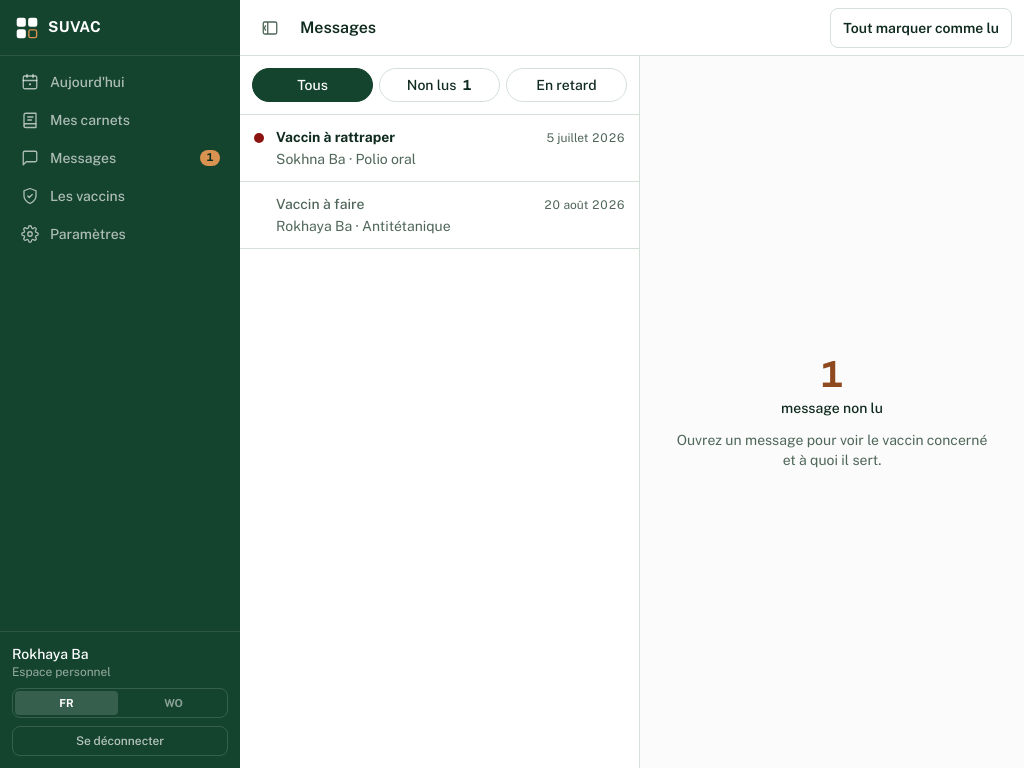
Test: Messages › affiche le texte tel qu'il a été envoyé
Click the text "Vaccin à faire" at (320, 204), box [276,194,364,214]
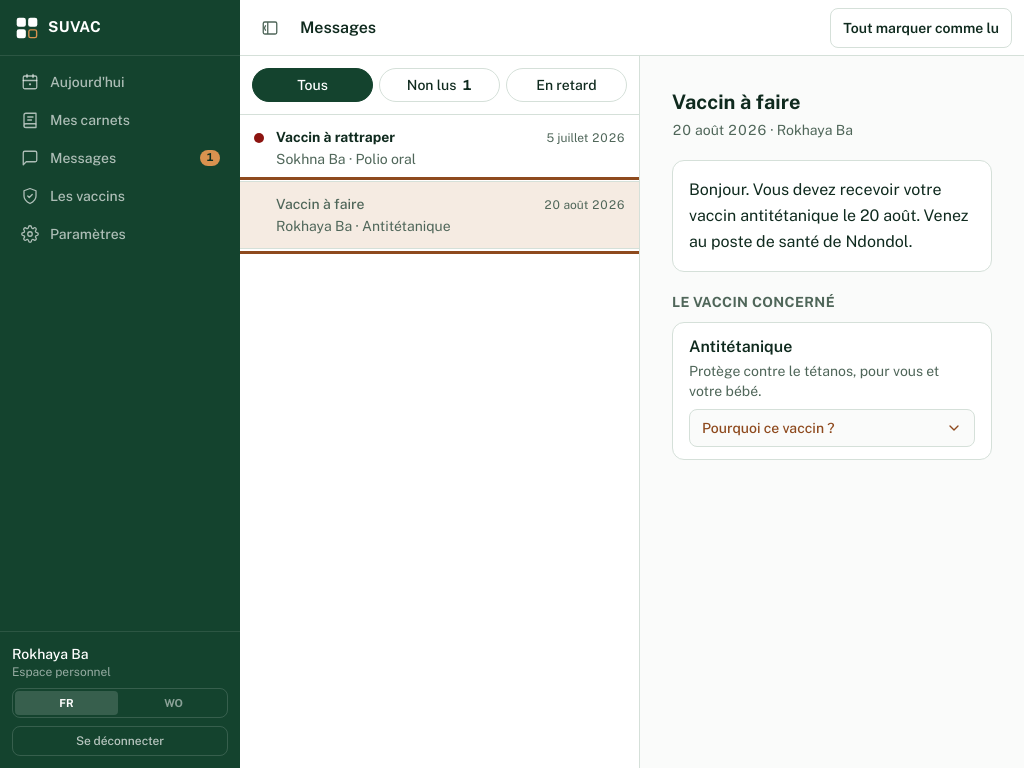
Now the text "Vous devez recevoir votre vaccin antitétanique" is shown, box [689,180,968,251]
